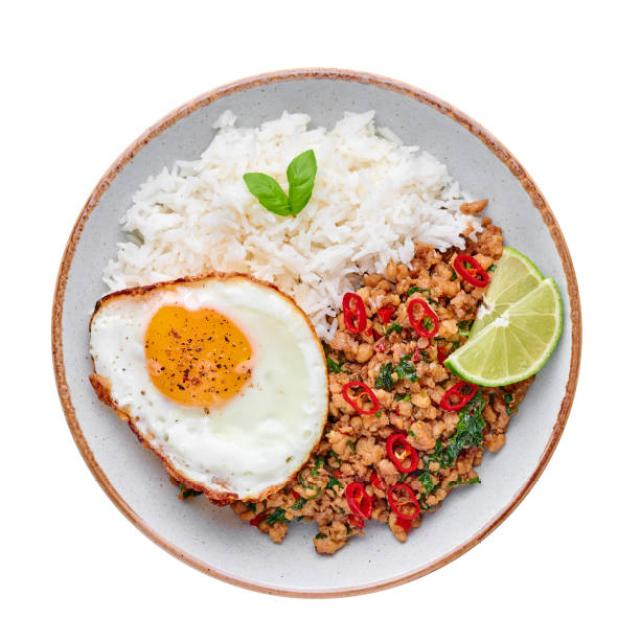Carbohydrate: (98, 108, 487, 278)
Kaow-Padkrapao: (46, 63, 582, 599)
Protein: (224, 195, 530, 559), (90, 275, 324, 505)
Vegetable: (437, 247, 564, 396), (242, 146, 320, 220)
